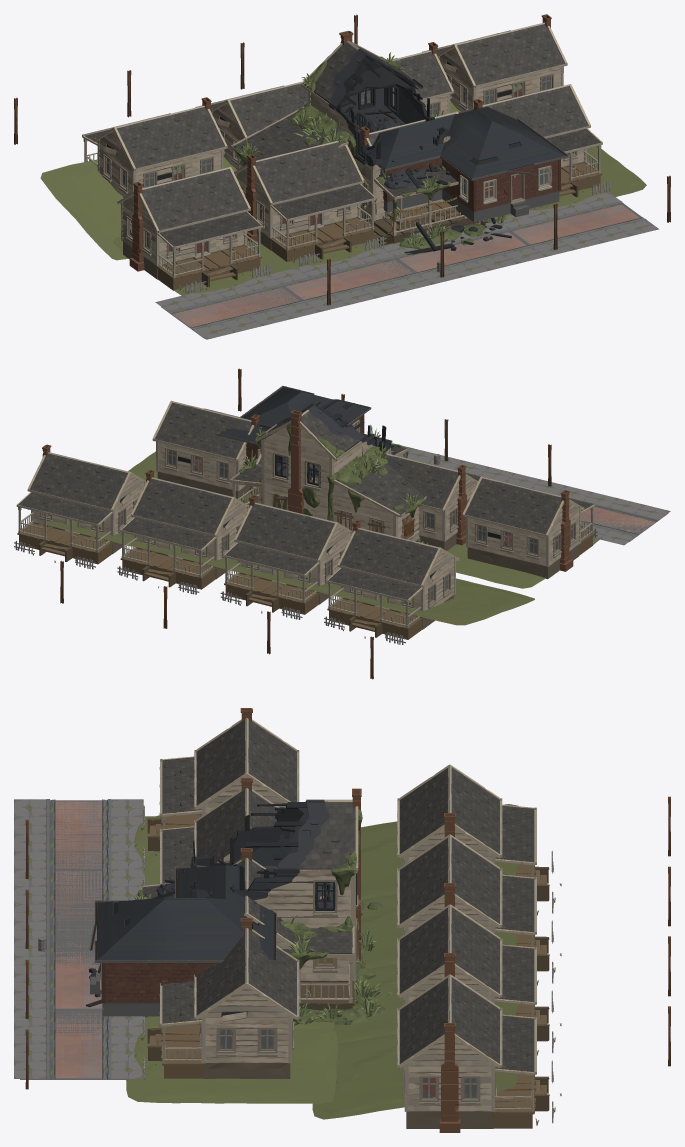
3 renders of one model, top to bottom at view 1: azimuth 30°, elevation 25°; view 2: azimuth 150°, elevation 25°; view 3: azimuth 270°, elevation 25°, orthographic. The views are drawn at different scales.
Visible parts, largest first — view 1: SM_Bld_House_Burnt_01, SM_Bld_House_01, SM_Bld_House_03 (3), SM_Bld_House_03, SM_Bld_House_03 (6), FloorElement (×4), SM_Bld_House_03 (7), SM_Bld_House_03 (2), SM_Generic_Ground_Flat_01 (7), SM_Bld_House_03 (5), SM_Bld_House_03 (4), SM_Generic_Ground_Flat_01 (1) (+4 smaller); view 2: SM_Bld_House_Burnt_01, SM_Bld_House_03 (6), SM_Bld_House_03 (7), SM_Bld_House_03 (3), SM_Bld_House_03 (4), SM_Bld_House_03 (5), SM_Bld_House_03 (2), SM_Bld_House_03, SM_Bld_House_01, SM_Generic_Ground_Flat_01 (7), SM_Generic_Ground_Flat_01 (3), FloorElement (+3 smaller); view 3: SM_Bld_House_Burnt_01, SM_Bld_House_03 (7), SM_Bld_House_01, SM_Bld_House_03 (2), FloorElement (×4), SM_Bld_House_03 (4), SM_Bld_House_03 (5), SM_Bld_House_03 (3), SM_Bld_House_03 (6), SM_Generic_Ground_Flat_01 (1), SM_Env_Road_Bare_01 (×4), SM_Generic_Ground_Flat_01 (5) (+13 smaller).
Part boxes in pixels (x1,y1,x2,y2): SM_Bld_House_Burnt_01: (231, 30, 511, 254); SM_Bld_House_01: (362, 107, 568, 222); SM_Bld_House_03 (3): (117, 167, 262, 290); SM_Bld_House_03: (234, 140, 376, 261); SM_Bld_House_03 (6): (82, 97, 227, 197); FloorElement (×4): (173, 204, 639, 327); SM_Bld_House_03 (7): (422, 14, 567, 111); SM_Bld_House_03 (2): (471, 84, 602, 204); SM_Generic_Ground_Flat_01 (7): (40, 159, 176, 260); SM_Bld_House_03 (5): (195, 81, 307, 169); SM_Bld_House_03 (4): (361, 42, 454, 115); SM_Generic_Ground_Flat_01 (1): (529, 146, 646, 210); SM_Bld_House_Burnt_01: (229, 399, 427, 544); SM_Bld_House_03 (6): (326, 520, 459, 639); SM_Bld_House_03 (7): (16, 444, 145, 564); SM_Bld_House_03 (3): (462, 476, 595, 578); SM_Bld_House_03 (4): (120, 470, 249, 589); SM_Bld_House_03 (5): (223, 495, 352, 614); SM_Bld_House_03 (2): (152, 400, 259, 499); SM_Bld_House_03: (375, 452, 491, 550); SM_Bld_House_01: (217, 385, 392, 464); SM_Generic_Ground_Flat_01 (7): (357, 578, 534, 625); SM_Generic_Ground_Flat_01 (3): (447, 538, 599, 588); FloorElement: (581, 507, 654, 532); SM_Bld_House_Burnt_01: (86, 788, 392, 1025); SM_Bld_House_03 (7): (397, 974, 549, 1132); SM_Bld_House_01: (89, 865, 276, 1016); SM_Bld_House_03 (2): (147, 918, 299, 1079); FloorElement (×4): (55, 801, 107, 1078); SM_Bld_House_03 (4): (397, 904, 549, 1041); SM_Bld_House_03 (5): (397, 834, 549, 971); SM_Bld_House_03 (3): (147, 708, 299, 851); SM_Bld_House_03 (6): (397, 764, 549, 901); SM_Generic_Ground_Flat_01 (1): (126, 1027, 338, 1103); SM_Env_Road_Bare_01 (×4): (20, 800, 125, 1079); SM_Generic_Ground_Flat_01 (5): (312, 1015, 518, 1119).
Size of the model in its own units: 45.64 by 13.2 by 39.71.
